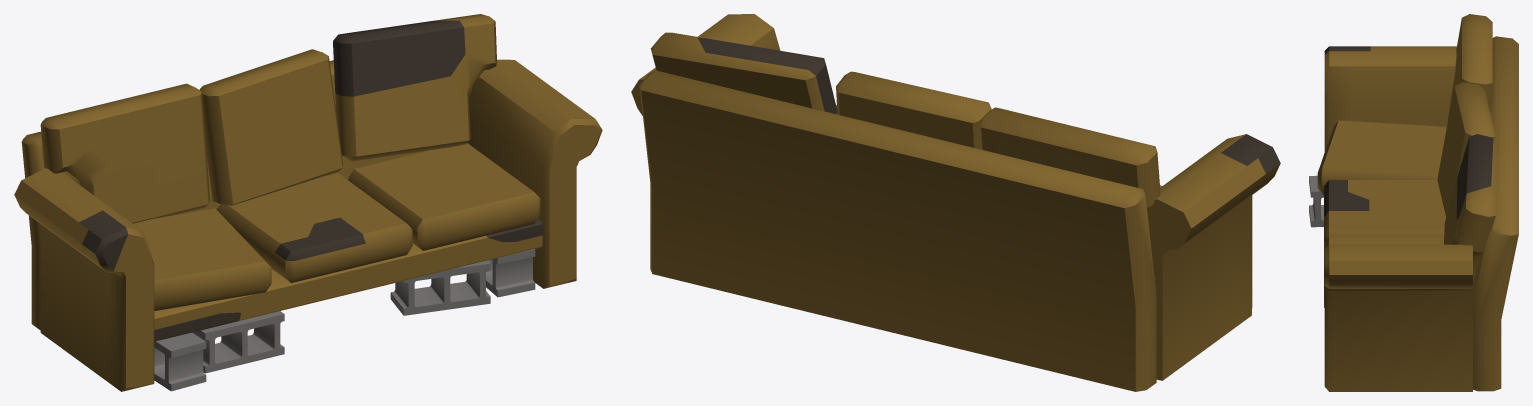
Rendered from couch.glb.
3 views of the same model, side by side, from view 1: azimuth 30°, elevation 25°; view 2: azimuth 150°, elevation 25°; view 3: azimuth 270°, elevation 25° (orthographic). The views are drawn at different scales.
Parts seen in each view (by area): view 1: Couch; view 2: Couch; view 3: Couch.
Part boxes in pixels (box(x1,y1,x2,y2)): Couch: box(14, 14, 602, 391); Couch: box(631, 14, 1280, 391); Couch: box(1309, 14, 1518, 391).
Size of the model in its own units: 3.01 by 1.24 by 1.21.
